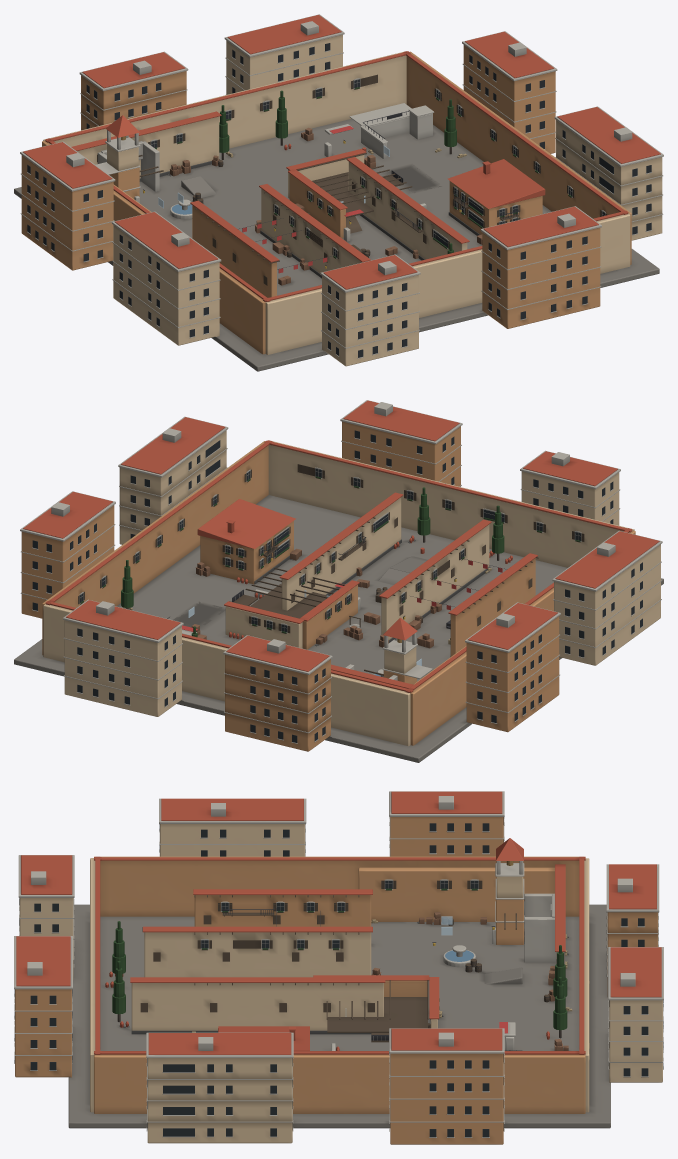
Rendered from hd_inferno.glb.
3 renders of one model, top to bottom at view 1: azimuth 30°, elevation 25°; view 2: azimuth 150°, elevation 25°; view 3: azimuth 270°, elevation 25°, orthographic. The views are drawn at different scales.
Parts seen in each view (by area): view 1: Inferno_Horizon_tuscan_stucco_ochre_NonCol, Inferno_Horizon_tuscan_stucco_warm_NonCol, Terrain_Cobblestone, Inferno_Horizon_terracotta_roof_NonCol, Inferno_Horizon_limestone_carved_NonCol, Wall_Perimeter_North, Wall_Perimeter_South, Wall_Perimeter_East, Inferno_Horizon_window_dark_NonCol, Trim_Coping_NonCol, Wall_Mid_East, Wall_Perimeter_West (+19 smaller); view 2: Inferno_Horizon_tuscan_stucco_ochre_NonCol, Inferno_Horizon_tuscan_stucco_warm_NonCol, Terrain_Cobblestone, Inferno_Horizon_terracotta_roof_NonCol, Wall_Perimeter_South, Inferno_Horizon_limestone_carved_NonCol, Wall_Perimeter_East, Wall_Perimeter_North, Inferno_Horizon_window_dark_NonCol, Wall_Mid_East, Wall_Banana_East, Wall_Perimeter_West (+16 smaller); view 3: Terrain_Cobblestone, Inferno_Horizon_tuscan_stucco_warm_NonCol, Inferno_Horizon_terracotta_roof_NonCol, Inferno_Horizon_tuscan_stucco_ochre_NonCol, Wall_Perimeter_East, Wall_Perimeter_West, Inferno_Horizon_limestone_carved_NonCol, Wall_Mid_East, Wall_Banana_East, SiteB_West_Wall, Inferno_Horizon_window_dark_NonCol, Trim_Coping_NonCol (+18 smaller).
Boxes of the visible parts, x1=… form: Inferno_Horizon_tuscan_stucco_ochre_NonCol: x1=21, y1=45, x2=600, y2=328; Inferno_Horizon_tuscan_stucco_warm_NonCol: x1=113, y1=34, x2=662, y2=366; Terrain_Cobblestone: x1=14, y1=119, x2=659, y2=371; Inferno_Horizon_terracotta_roof_NonCol: x1=23, y1=15, x2=660, y2=289; Inferno_Horizon_limestone_carved_NonCol: x1=20, y1=14, x2=663, y2=358; Wall_Perimeter_North: x1=43, y1=51, x2=406, y2=148; Wall_Perimeter_South: x1=265, y1=213, x2=630, y2=354; Wall_Perimeter_East: x1=406, y1=51, x2=631, y2=264; Inferno_Horizon_window_dark_NonCol: x1=27, y1=43, x2=651, y2=357; Trim_Coping_NonCol: x1=71, y1=111, x2=469, y2=262; Wall_Mid_East: x1=348, y1=162, x2=467, y2=259; Wall_Perimeter_West: x1=42, y1=140, x2=265, y2=354; Inferno_Horizon_tuscan_stucco_ochre_NonCol: x1=21, y1=421, x2=559, y2=751; Inferno_Horizon_tuscan_stucco_warm_NonCol: x1=64, y1=430, x2=660, y2=716; Terrain_Cobblestone: x1=14, y1=495, x2=663, y2=762; Inferno_Horizon_terracotta_roof_NonCol: x1=23, y1=400, x2=659, y2=671; Wall_Perimeter_South: x1=268, y1=440, x2=634, y2=567; Inferno_Horizon_limestone_carved_NonCol: x1=20, y1=400, x2=662, y2=743; Wall_Perimeter_East: x1=42, y1=441, x2=268, y2=655; Wall_Perimeter_North: x1=43, y1=604, x2=410, y2=746; Inferno_Horizon_window_dark_NonCol: x1=32, y1=430, x2=642, y2=742; Wall_Mid_East: x1=281, y1=497, x2=401, y2=610; Wall_Banana_East: x1=381, y1=524, x2=489, y2=639; Wall_Perimeter_West: x1=410, y1=530, x2=635, y2=745; Terrain_Cobblestone: x1=68, y1=904, x2=610, y2=1128; Inferno_Horizon_tuscan_stucco_warm_NonCol: x1=20, y1=824, x2=662, y2=1143; Inferno_Horizon_terracotta_roof_NonCol: x1=16, y1=791, x2=661, y2=1054; Inferno_Horizon_tuscan_stucco_ochre_NonCol: x1=15, y1=817, x2=657, y2=1144; Wall_Perimeter_East: x1=94, y1=1054, x2=585, y2=1113; Wall_Perimeter_West: x1=94, y1=856, x2=585, y2=916; Inferno_Horizon_limestone_carved_NonCol: x1=14, y1=791, x2=663, y2=1137; Wall_Mid_East: x1=131, y1=983, x2=383, y2=1030; Wall_Banana_East: x1=144, y1=932, x2=371, y2=977; SiteB_West_Wall: x1=358, y1=867, x2=554, y2=921; Inferno_Horizon_window_dark_NonCol: x1=14, y1=817, x2=663, y2=1137; Trim_Coping_NonCol: x1=130, y1=864, x2=565, y2=982.
Size of what is drawn, in the model's own units: 297 by 57.03 by 309.
